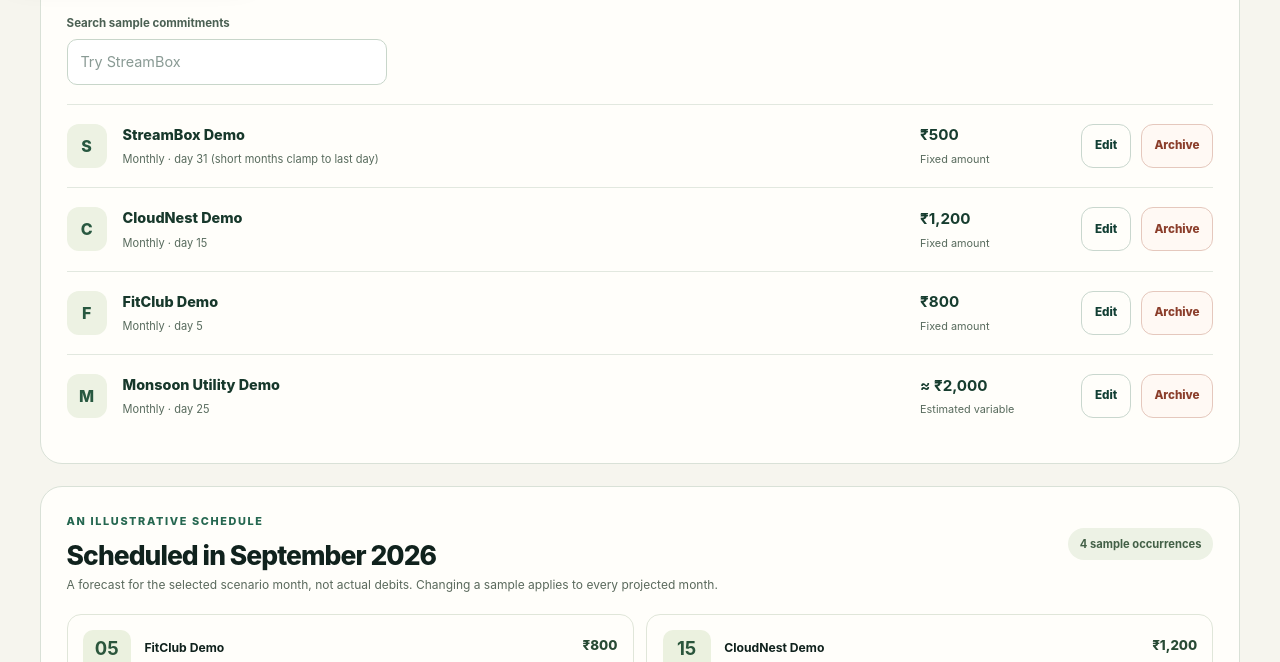
Test: public isolated demo workspace › preserves state on invalid input, cancels edits and keeps estimate labels honest
(page scrolled)
Click the button with aria-label "Edit Monsoon Utility Demo" at (1106, 396), box [1081,374,1131,418]
(page scrolled)
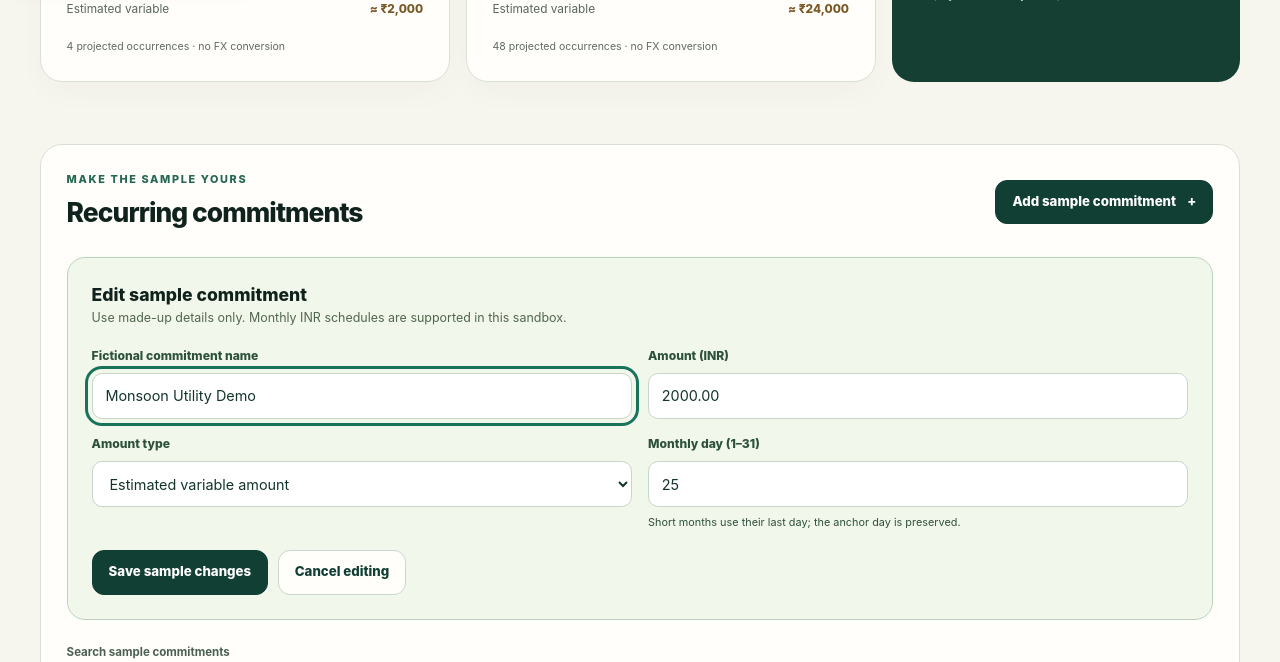
expect the dropdown labelled "Amount type" shows "Estimated variable amount": met, box [92,461,632,507]
Replace the text in the field labelled "Amount (INR)" with "1e3" at (918, 396), box [648,373,1188,419]
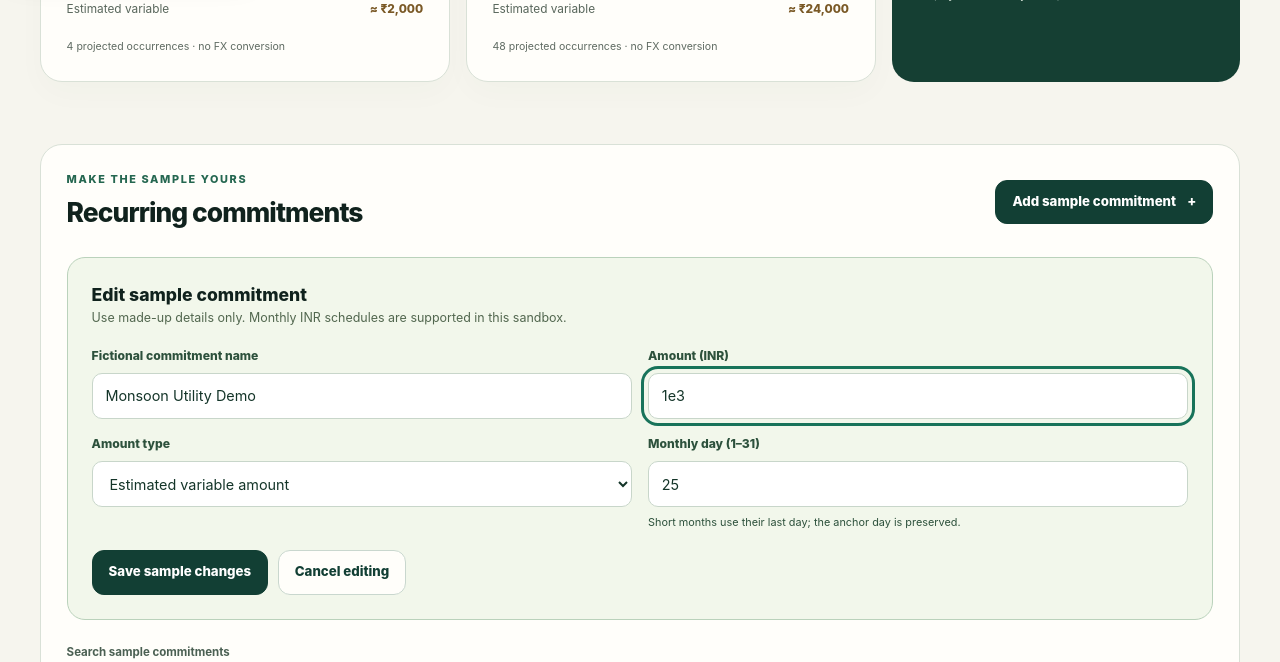
Click the button "Save sample changes" at (180, 572), box [92,550,268,595]
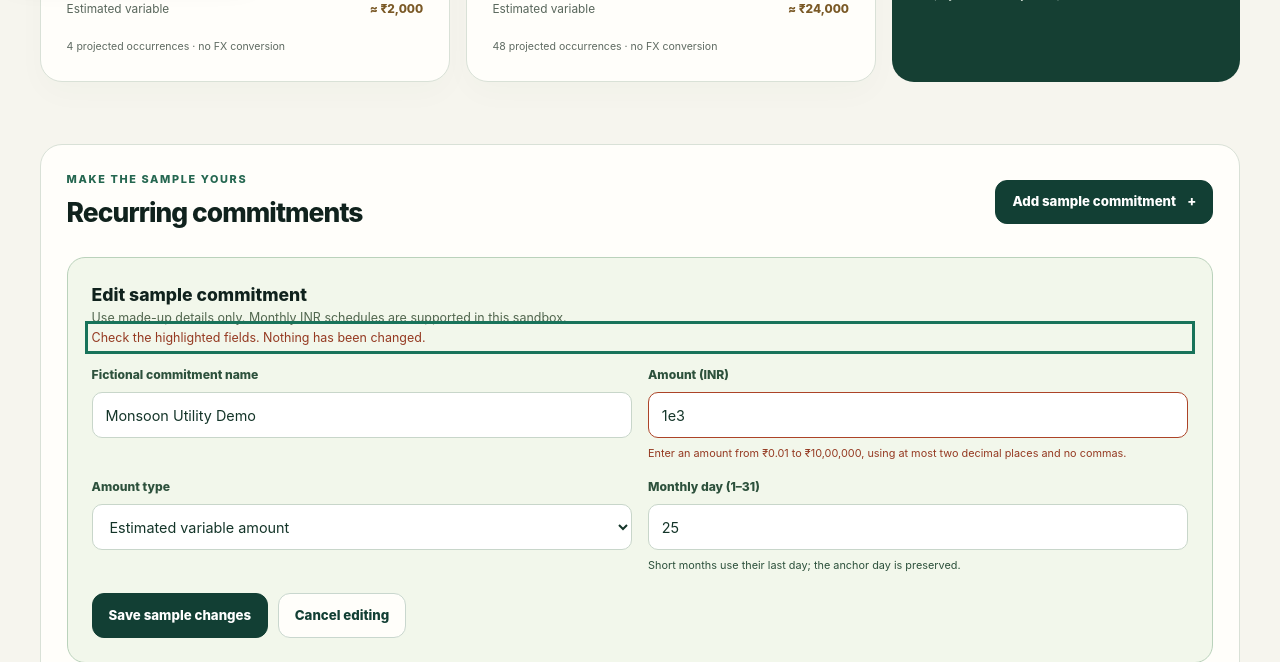
expect the message "Check the highlighted fields. Nothing has been changed." is shown: met, box [92,330,426,345]
Click the button "Cancel editing" at (342, 616), box [278,593,406,638]
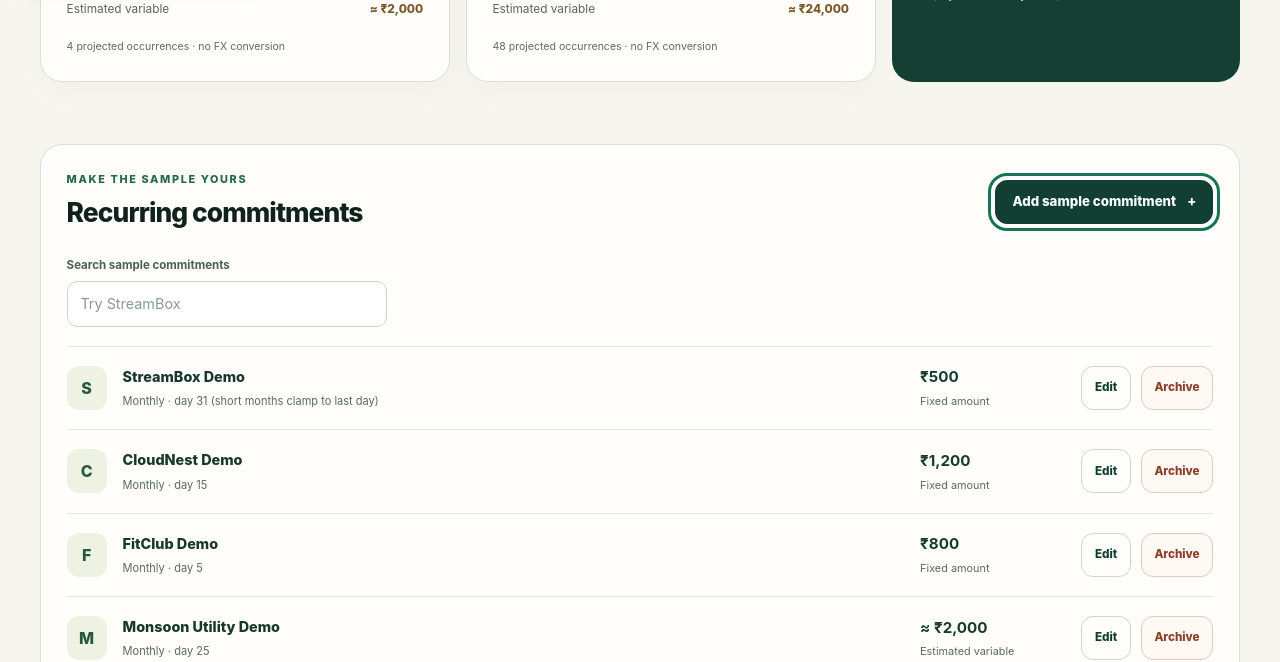
expect the form is gone: met
